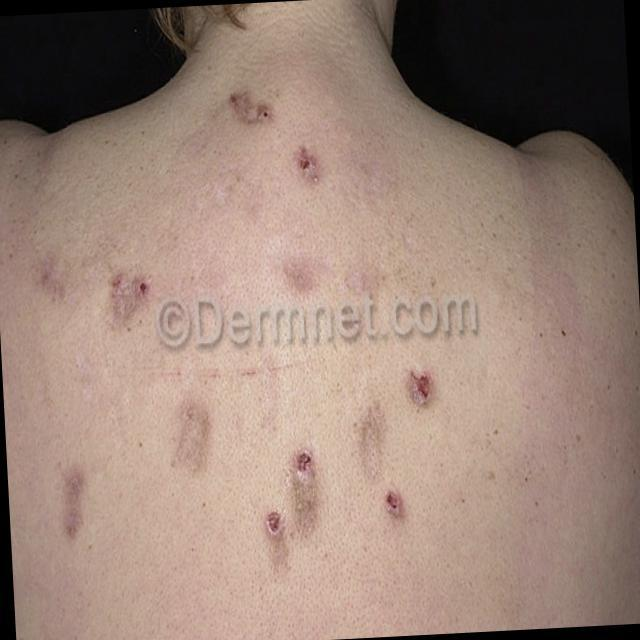Eczema: (16, 83, 438, 575)
